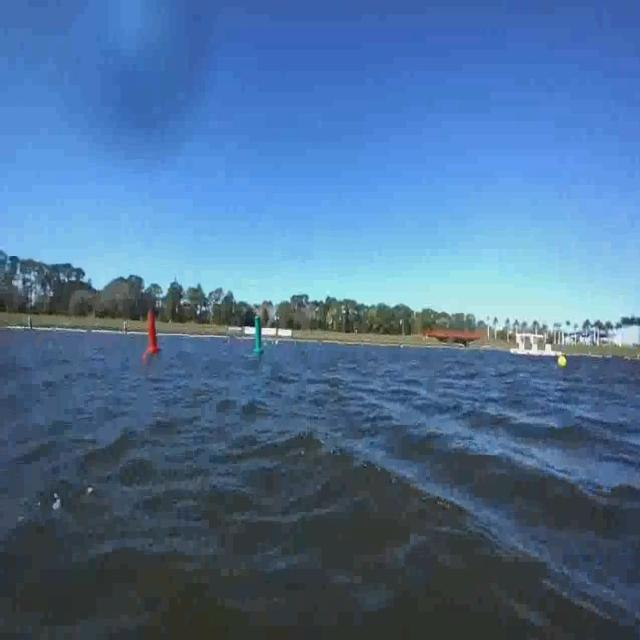green-column-buoy: (251, 306, 266, 355)
red-column-buoy: (138, 306, 162, 362)
